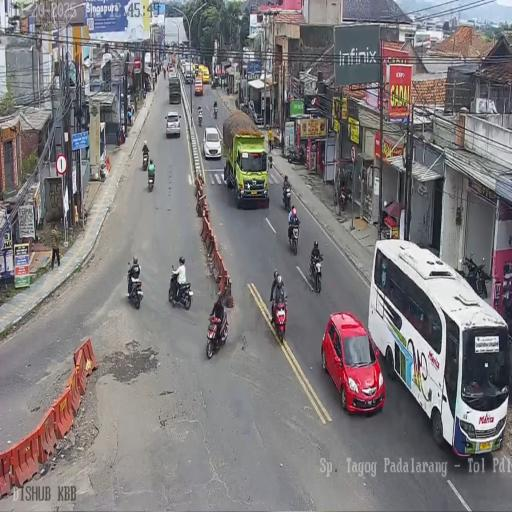3: (222, 109, 267, 210), (183, 62, 194, 84), (172, 54, 176, 66)
car: (322, 313, 384, 413), (202, 126, 222, 159), (165, 110, 181, 138), (198, 64, 210, 84), (168, 65, 176, 79), (193, 63, 199, 77)
truck: (206, 303, 228, 358), (168, 268, 192, 310), (272, 295, 288, 343), (126, 266, 143, 310), (310, 252, 322, 293), (288, 219, 300, 255), (287, 144, 305, 164), (282, 184, 292, 213), (146, 162, 154, 191), (142, 148, 148, 170), (267, 151, 273, 169), (213, 104, 218, 119), (198, 109, 202, 126)
